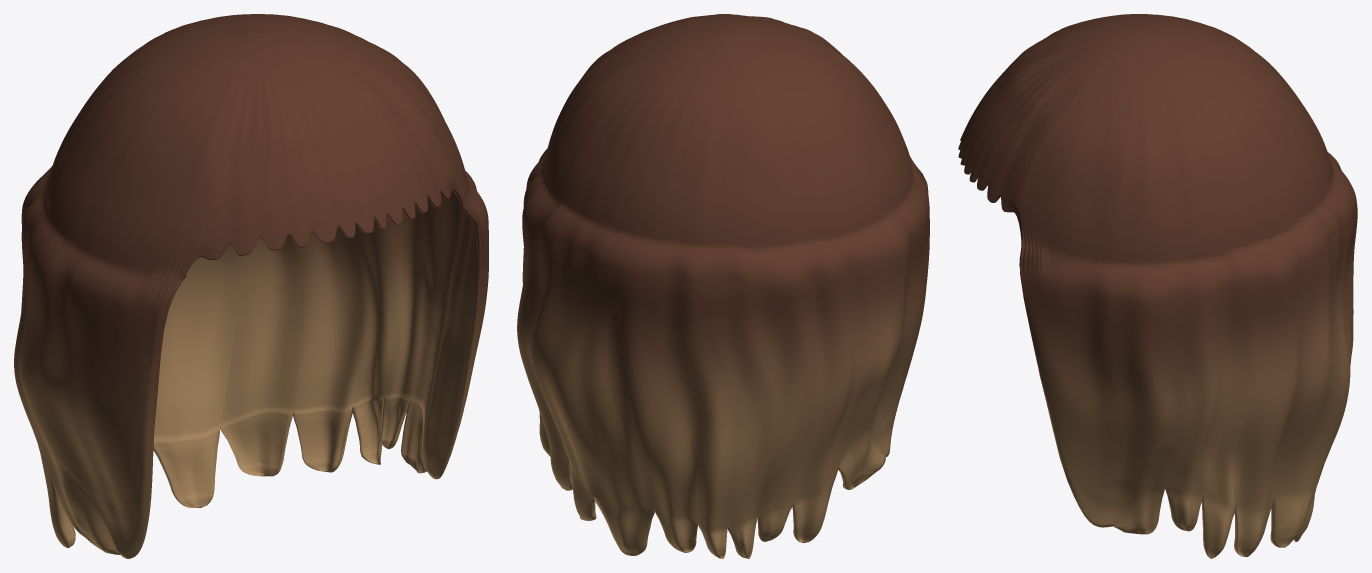
Rendered from long-beanie-ombre.glb.
3 views of the same model, side by side, from view 1: azimuth 30°, elevation 25°; view 2: azimuth 150°, elevation 25°; view 3: azimuth 270°, elevation 25° (orthographic). The views are drawn at different scales.
Parts seen in each view (by area): view 1: Hair / rounded long fringe; view 2: Hair / rounded long fringe; view 3: Hair / rounded long fringe.
Boxes of the visible parts, box(x1,y1,x2,y2) form: Hair / rounded long fringe: box(14, 14, 488, 558); Hair / rounded long fringe: box(517, 14, 929, 558); Hair / rounded long fringe: box(958, 14, 1357, 558).
Bounding box in the file's own units: 0.8534 × 1.06 × 0.7734.
